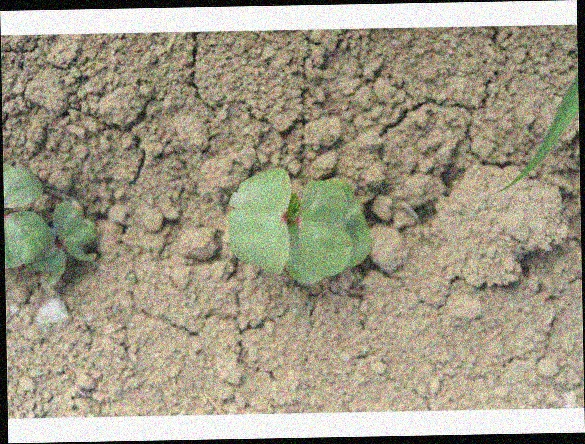cotton: (227, 165, 373, 285), (4, 162, 94, 284)
